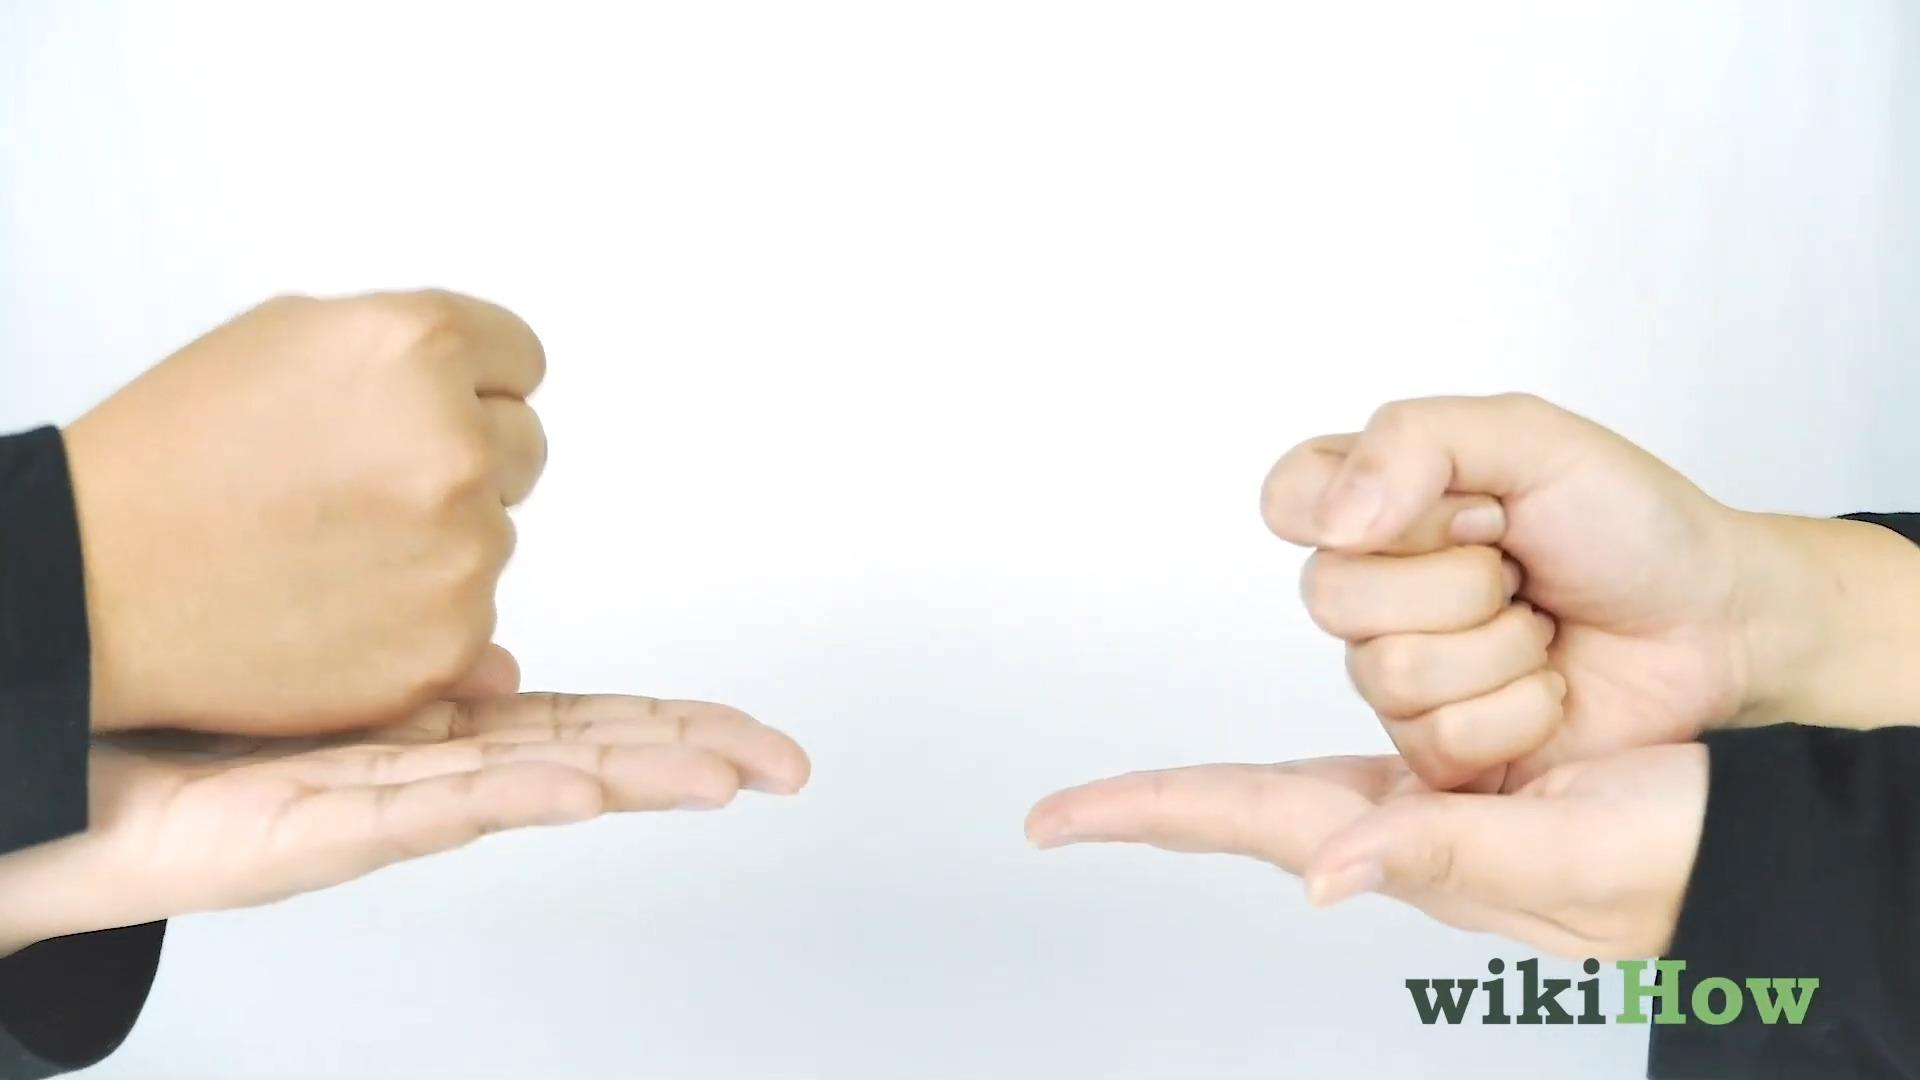Rock: (62, 282, 551, 740), (1255, 390, 1758, 789)
